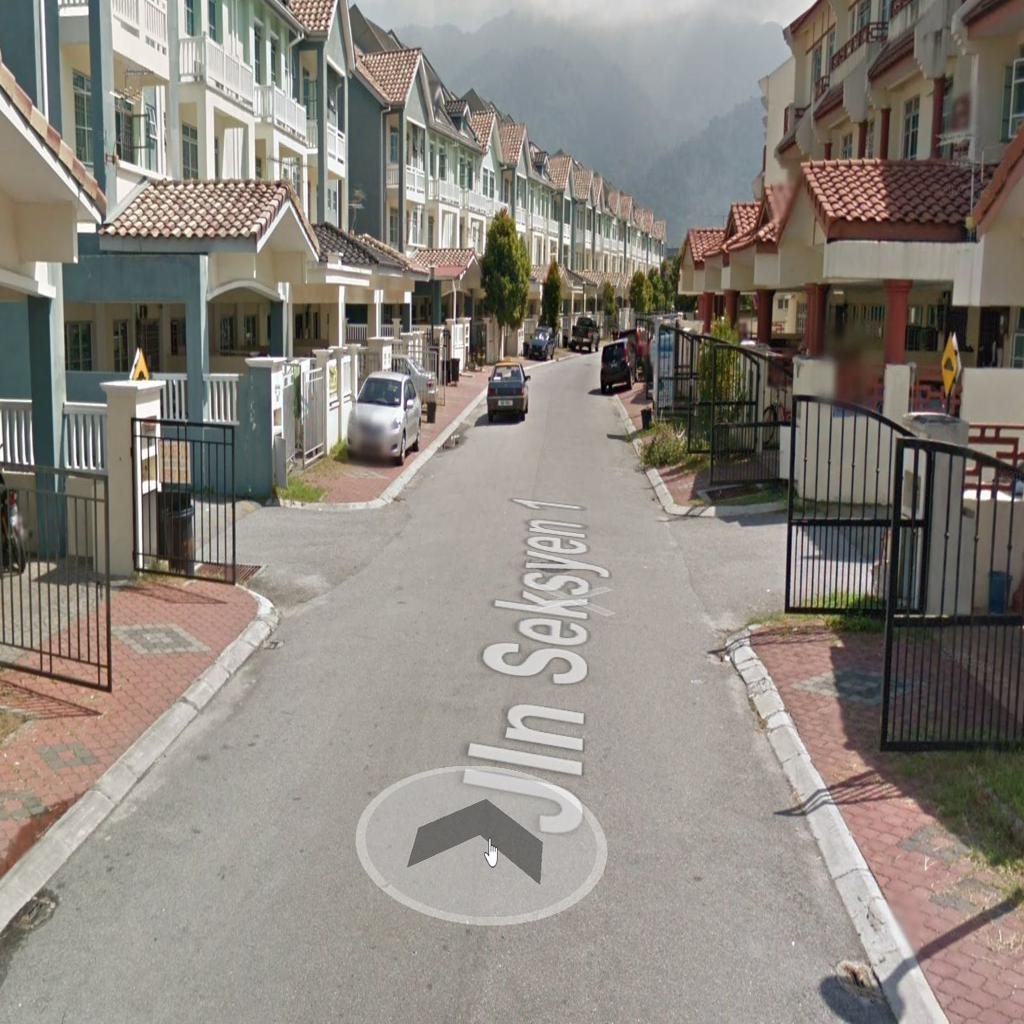Junction: (182, 452, 388, 641), (646, 482, 875, 641)
